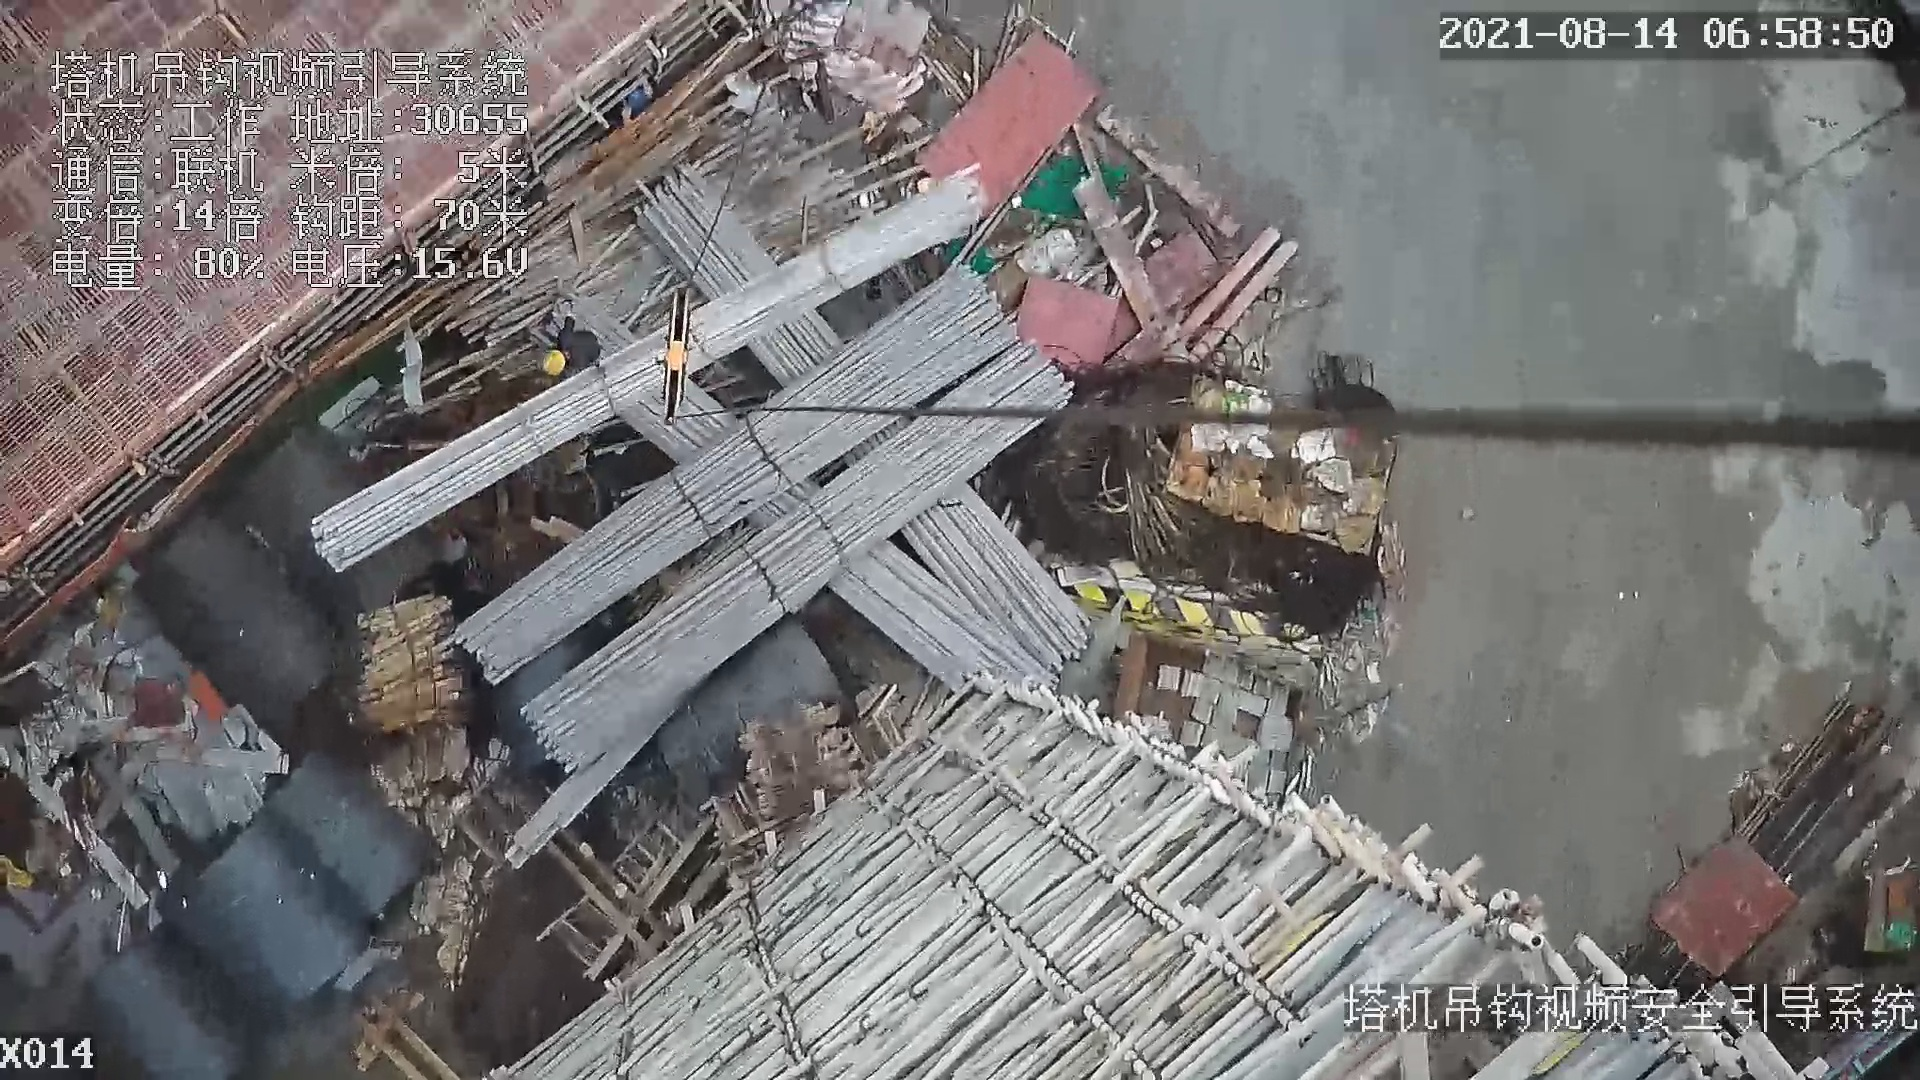helmet: (543, 350, 565, 376)
hook: (651, 283, 701, 430)
person: (532, 318, 613, 383)
rebar: (309, 176, 985, 572), (521, 343, 1075, 769), (459, 269, 1016, 689), (904, 479, 1100, 666), (827, 538, 1058, 695)
wood: (361, 591, 466, 731)
